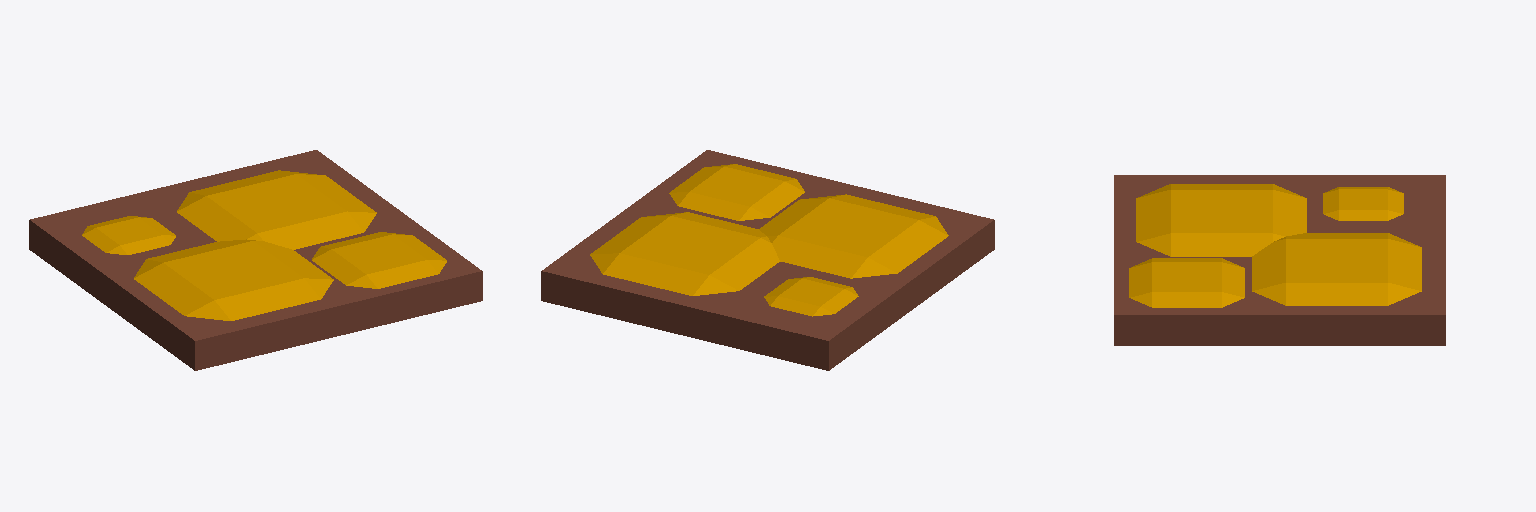
The model's file is Ore.obj.
3 renders of one model, left to right at view 1: azimuth 30°, elevation 25°; view 2: azimuth 150°, elevation 25°; view 3: azimuth 270°, elevation 25°, orthographic.
Visible parts, largest first — view 1: Tilebase100, Plane004, Plane001, Plane003, Plane002; view 2: Tilebase100, Plane001, Plane004, Plane003, Plane002; view 3: Tilebase100, Plane001, Plane004, Plane003, Plane002.
Boxes of the visible parts, <box> form: Tilebase100: <box>29,150,482,370</box>; Plane004: <box>134,239,333,320</box>; Plane001: <box>177,170,376,249</box>; Plane003: <box>312,232,446,288</box>; Plane002: <box>82,216,175,254</box>; Tilebase100: <box>541,150,994,370</box>; Plane001: <box>590,212,779,295</box>; Plane004: <box>759,194,948,278</box>; Plane003: <box>669,164,804,220</box>; Plane002: <box>764,277,858,316</box>; Tilebase100: <box>1114,175,1445,345</box>; Plane001: <box>1252,233,1421,305</box>; Plane004: <box>1136,184,1306,256</box>; Plane003: <box>1129,258,1244,307</box>; Plane002: <box>1323,187,1403,220</box>.
Bounding box in the file's own units: 10 × 1.29 × 10.